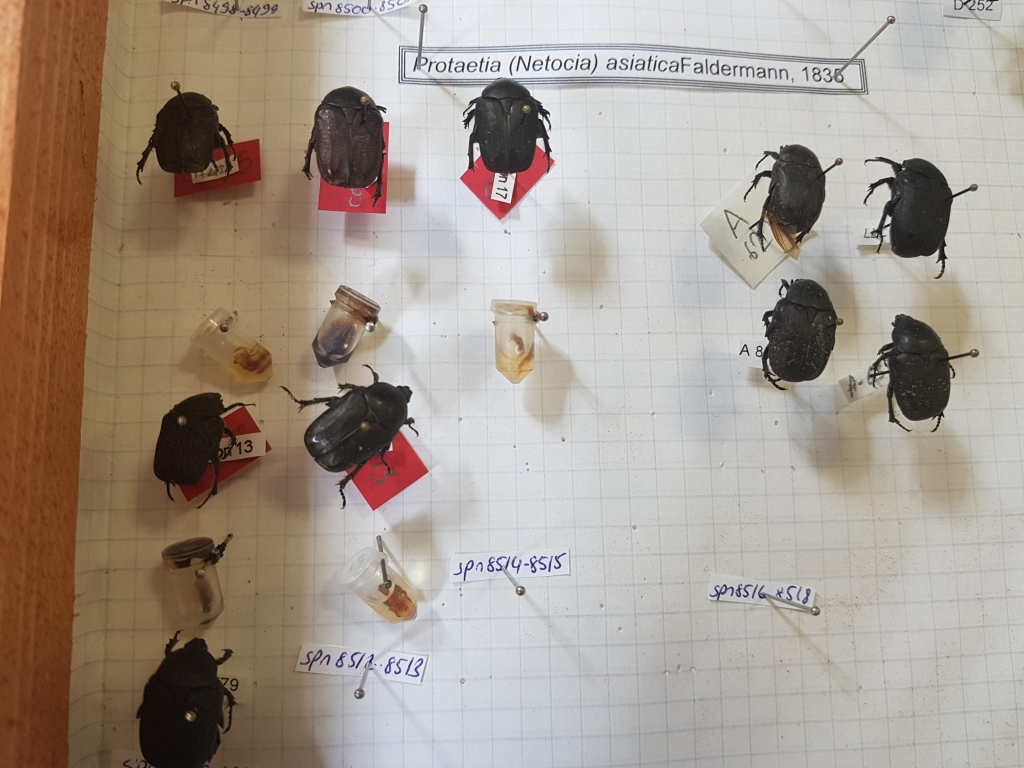Protaetia_asiatica: (269, 353, 428, 504), (860, 145, 961, 284), (866, 303, 966, 439), (301, 80, 391, 213), (759, 272, 846, 391), (460, 75, 553, 183), (745, 140, 836, 245)
